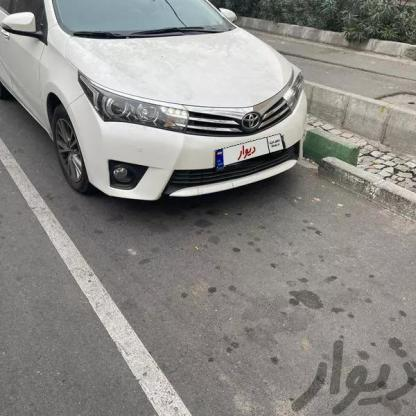Car: (0, 0, 308, 214)
